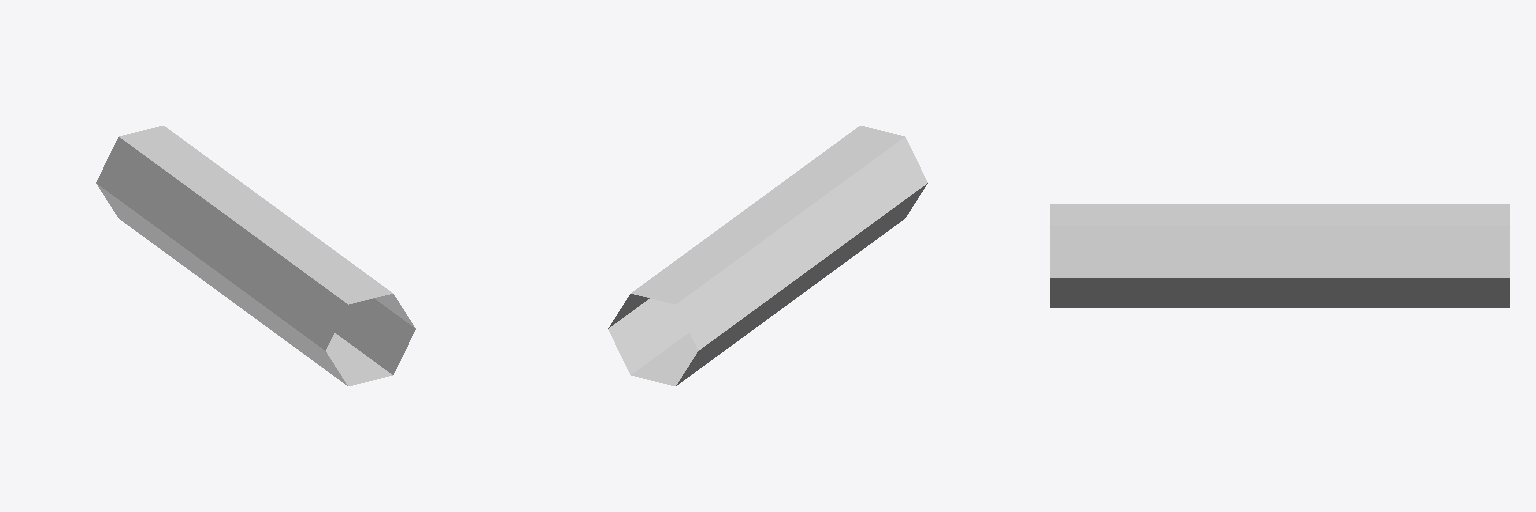
File: corridor1.obj
3 views of the same model, side by side, from view 1: azimuth 30°, elevation 25°; view 2: azimuth 150°, elevation 25°; view 3: azimuth 270°, elevation 25° (orthographic).
Visible parts, largest first — view 1: mesh01; view 2: mesh01; view 3: mesh01.
Boxes of the visible parts, <box> form: mesh01: <box>96,126,415,385</box>; mesh01: <box>608,126,927,385</box>; mesh01: <box>1050,204,1509,307</box>.
Bounding box in the file's own units: 68.29 × 59.14 × 300.